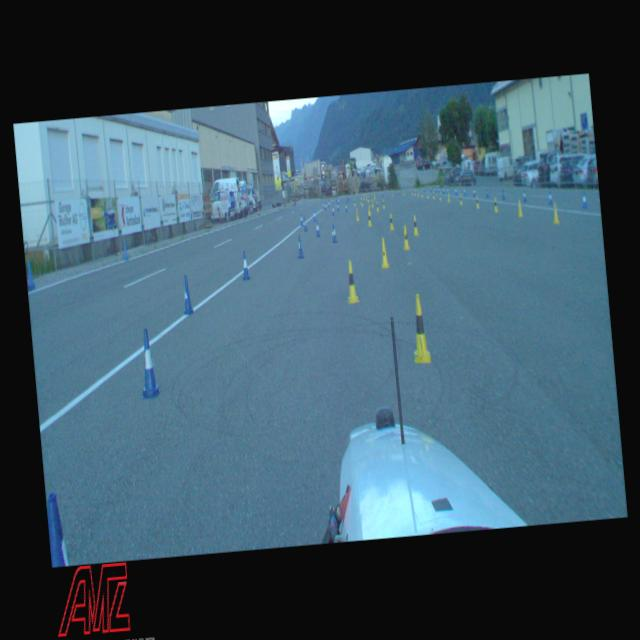blue_cone: (136, 327, 162, 399), (180, 274, 194, 315), (241, 250, 250, 280), (296, 235, 304, 258), (330, 224, 337, 243), (314, 220, 320, 237), (581, 192, 586, 208), (302, 216, 307, 231), (299, 212, 303, 225), (312, 210, 316, 220), (522, 190, 525, 200)
yellow_cone: (408, 294, 430, 364), (344, 260, 358, 302), (378, 236, 389, 267), (400, 224, 410, 250), (552, 202, 558, 223), (412, 215, 418, 235), (388, 212, 394, 230), (516, 199, 522, 216), (492, 197, 498, 212), (474, 195, 480, 208), (367, 210, 371, 226), (355, 208, 359, 221), (459, 193, 462, 204), (447, 192, 450, 202), (370, 198, 373, 206), (438, 192, 441, 200), (376, 201, 378, 211), (382, 198, 384, 208), (432, 190, 434, 199), (426, 190, 428, 198)
